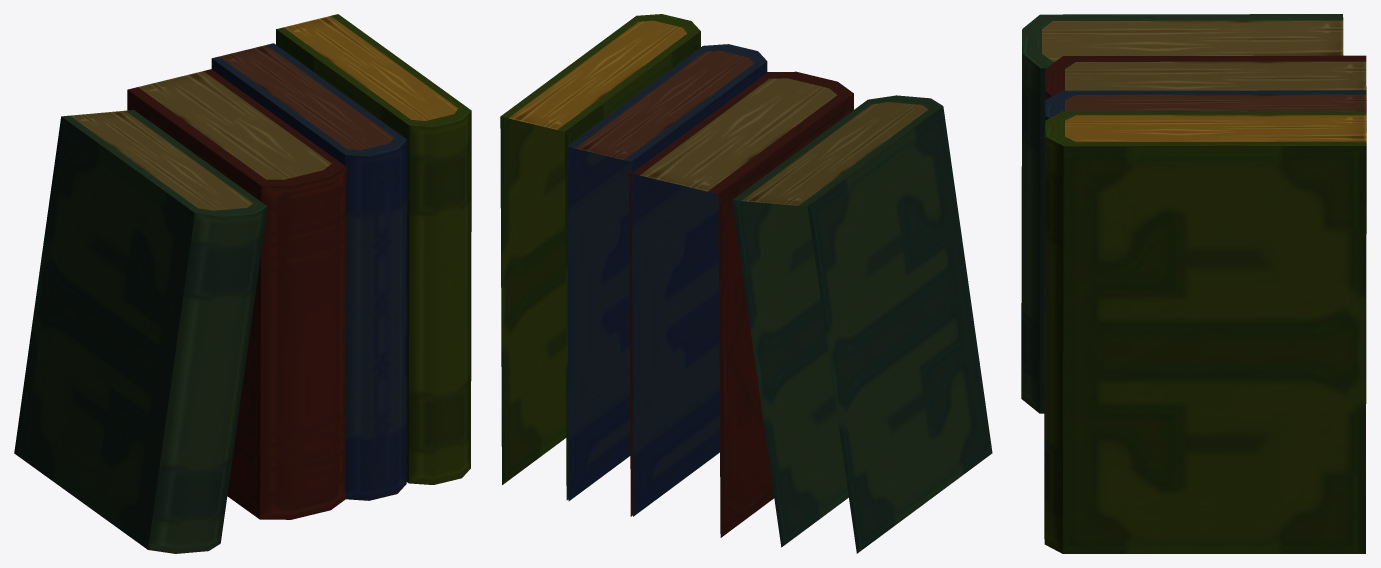
File: BookGroup_Small_1.gltf
The picture shows the model from 3 angles, left to right: view 1: azimuth 30°, elevation 25°; view 2: azimuth 150°, elevation 25°; view 3: azimuth 270°, elevation 25°; orthographic projection. The views are drawn at different scales.
Visible parts, largest first — view 1: BookGroup_Small_1; view 2: BookGroup_Small_1; view 3: BookGroup_Small_1.
Part boxes in pixels (x1=…): BookGroup_Small_1: x1=14, y1=14, x2=471, y2=553; BookGroup_Small_1: x1=500, y1=14, x2=992, y2=553; BookGroup_Small_1: x1=1021, y1=14, x2=1366, y2=553.
Size of the model in its own units: 0.2893 by 0.2983 by 0.2256.
1 material, 1 textured.
